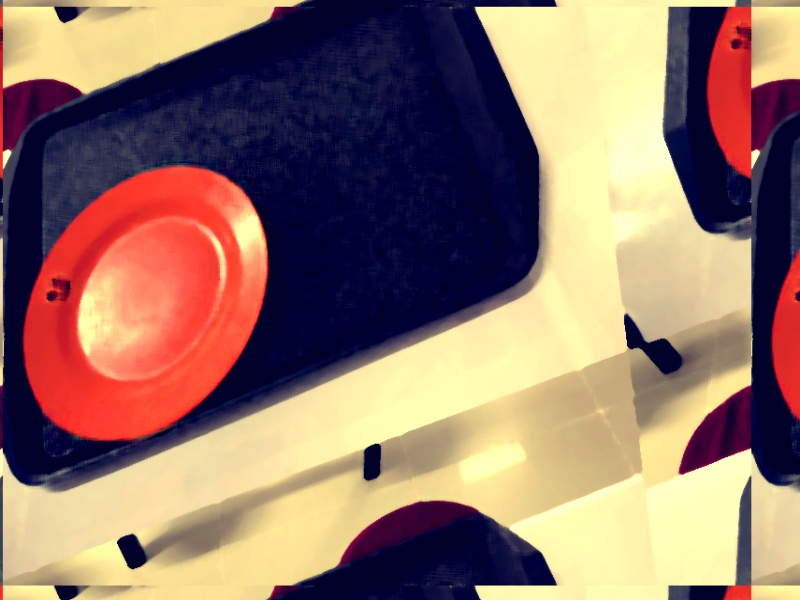dish10: (5, 126, 289, 477)
